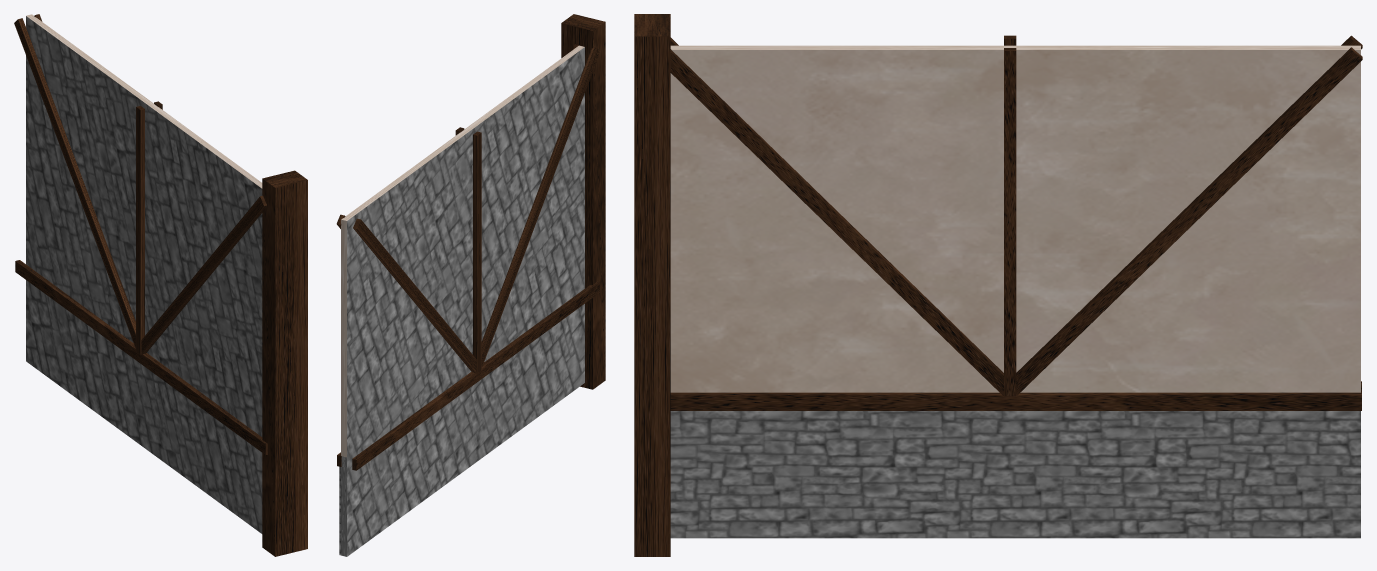
The model's file is praredelend.glb.
3 renders of one model, left to right at view 1: azimuth 30°, elevation 25°; view 2: azimuth 150°, elevation 25°; view 3: azimuth 270°, elevation 25°, orthographic. The views are drawn at different scales.
Visible parts, largest first — view 1: Cube, Cube.009, Cube.008, Cube.006, Cube.005, Cube.004; view 2: Cube, Cube.009, Cube.008, Cube.005, Cube.006, Cube.004; view 3: Cube, Cube.009, Cube.007, Cube.003, Cube.002, Cube.001.
Part boxes in pixels (left/top/right/bottom): Cube: left=26, top=14, right=262, bottom=533; Cube.009: left=262, top=170, right=307, bottom=556; Cube.008: left=15, top=260, right=267, bottom=454; Cube.006: left=14, top=18, right=135, bottom=348; Cube.005: left=141, top=195, right=266, bottom=354; Cube.004: left=136, top=106, right=144, bottom=354; Cube: left=339, top=45, right=584, bottom=556; Cube.009: left=561, top=14, right=605, bottom=389; Cube.008: left=352, top=281, right=599, bottom=470; Cube.005: left=481, top=47, right=600, bottom=367; Cube.006: left=353, top=218, right=476, bottom=373; Cube.004: left=473, top=131, right=481, bottom=373; Cube: left=670, top=45, right=1360, bottom=538; Cube.009: left=634, top=14, right=670, bottom=556; Cube.007: left=670, top=392, right=1361, bottom=410; Cube.003: left=1016, top=47, right=1362, bottom=395; Cube.002: left=670, top=49, right=1003, bottom=395; Cube.001: left=1004, top=48, right=1016, bottom=396.
Bounding box in the file's own units: 1.32 × 12.82 × 16.26.
5 materials, 5 textured.
